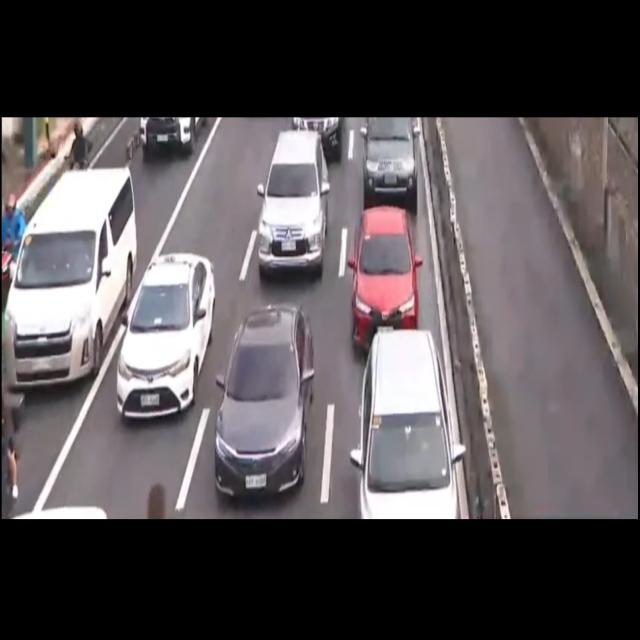SUV: (360, 335, 457, 520), (258, 130, 332, 280), (359, 120, 418, 206)
Sedan: (215, 308, 314, 495), (115, 253, 216, 415), (350, 200, 419, 344)
Van: (8, 165, 132, 385)
